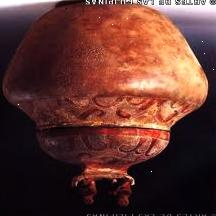manunggul_jar: (0, 4, 210, 208)
